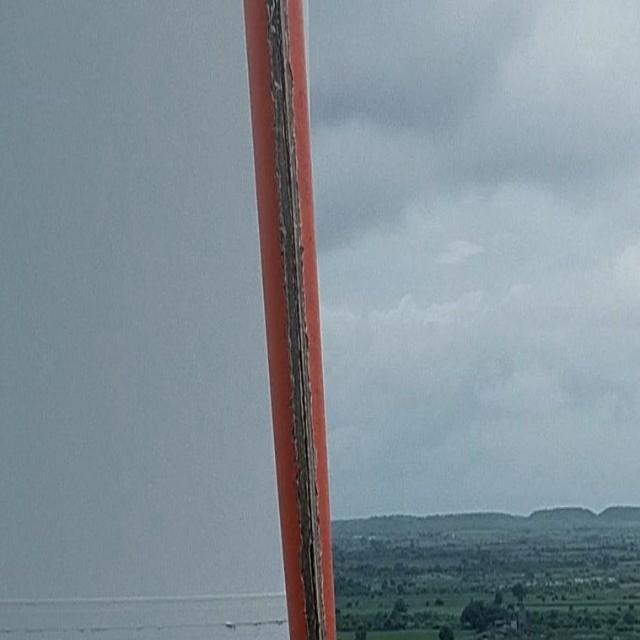EROSION: (267, 2, 310, 332), (290, 344, 330, 638)
